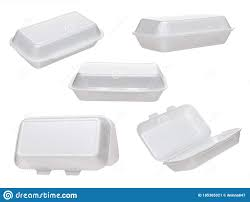styrofoam: (136, 103, 241, 172), (13, 117, 120, 176), (8, 10, 102, 69), (69, 61, 168, 102), (132, 15, 234, 53)
